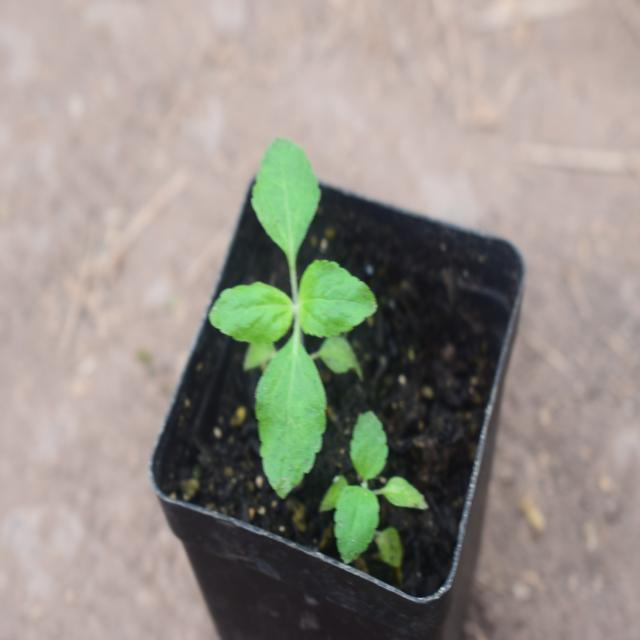billygoat_weed: (216, 130, 364, 473), (328, 409, 408, 582)
